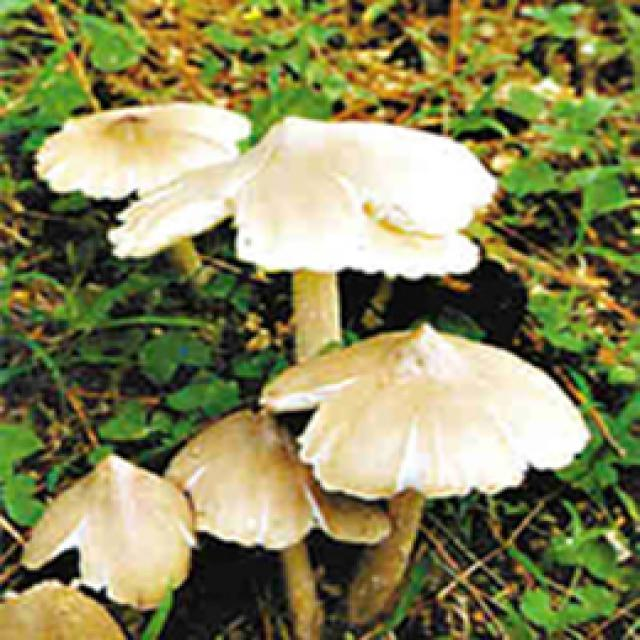Collybia albuminosa: (266, 325, 586, 624), (111, 117, 492, 338), (174, 406, 390, 633), (19, 447, 195, 606), (38, 101, 249, 198)
